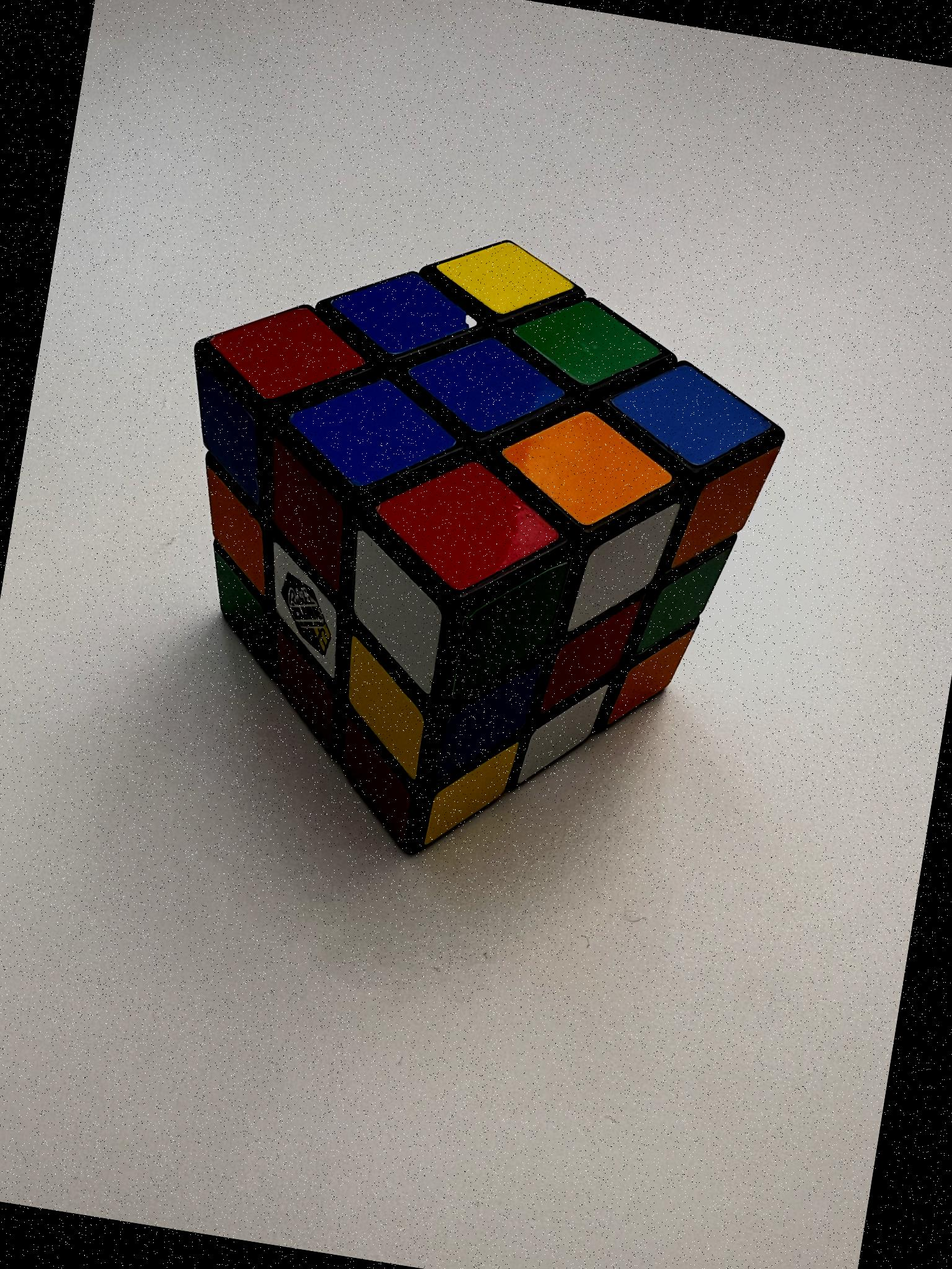rubiks_cube: (195, 242, 779, 845)
